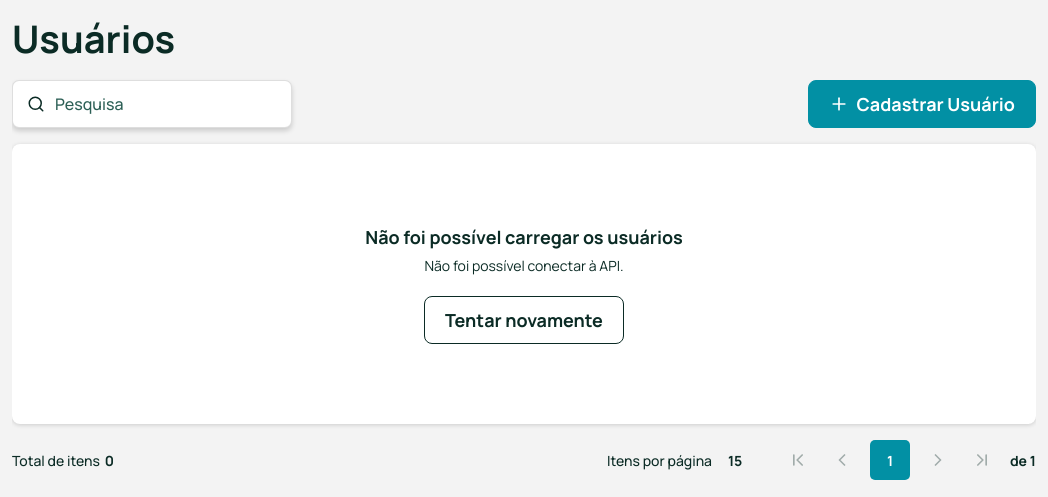
Test: UsersPage › mostra erro com opção de tentar novamente quando a API falha
Expected: the heading "Não foi possível carregar os usuários" is shown, [365,224,683,251]
Click the button "Tentar novamente". click: (524, 320)
box: [424,296,624,344]
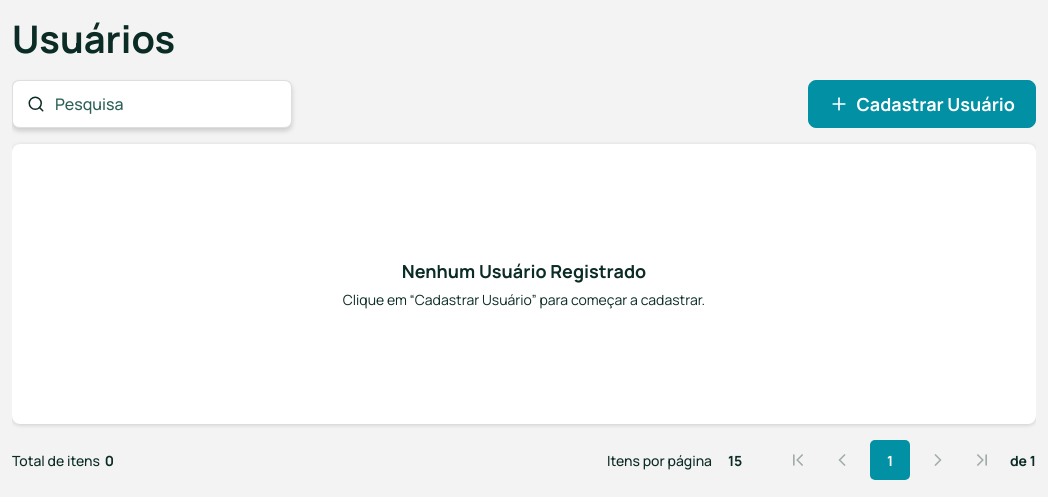
Expected: the heading "Nenhum Usuário Registrado" is shown, [402,258,646,285]
